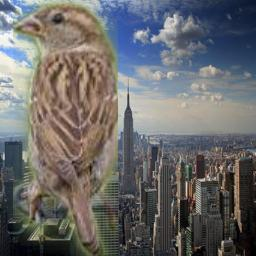Sparrow: (13, 0, 118, 256)
